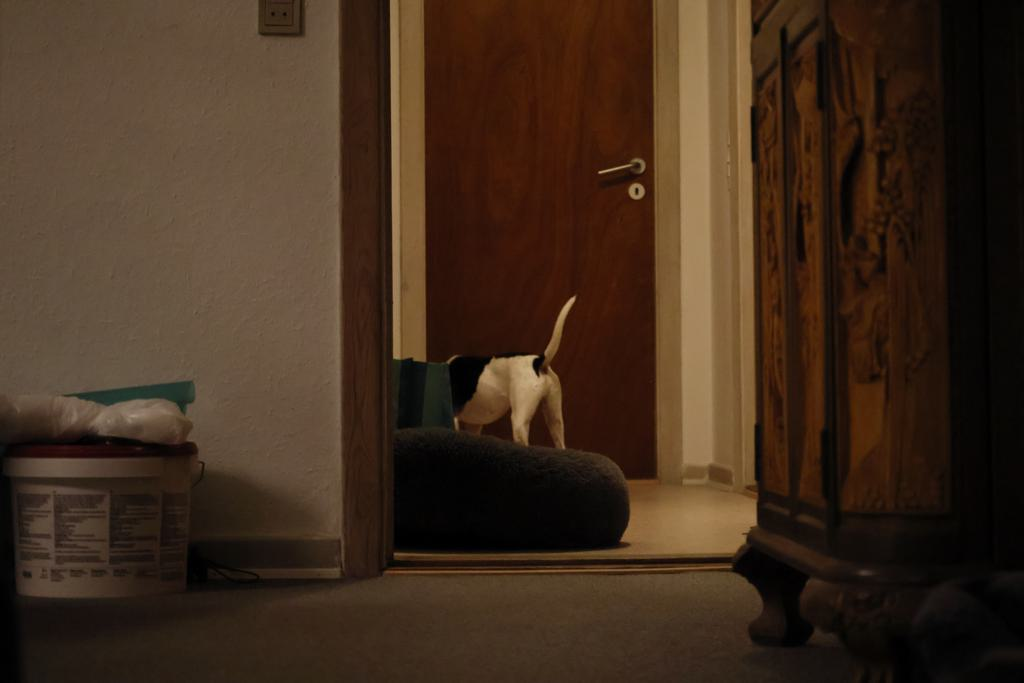Dog: (442, 292, 577, 457)
